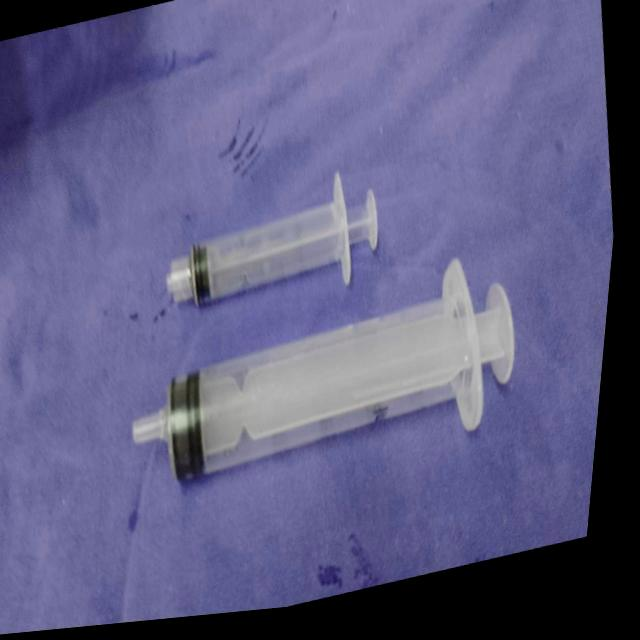Sharps: (130, 257, 516, 483), (164, 169, 380, 309)
